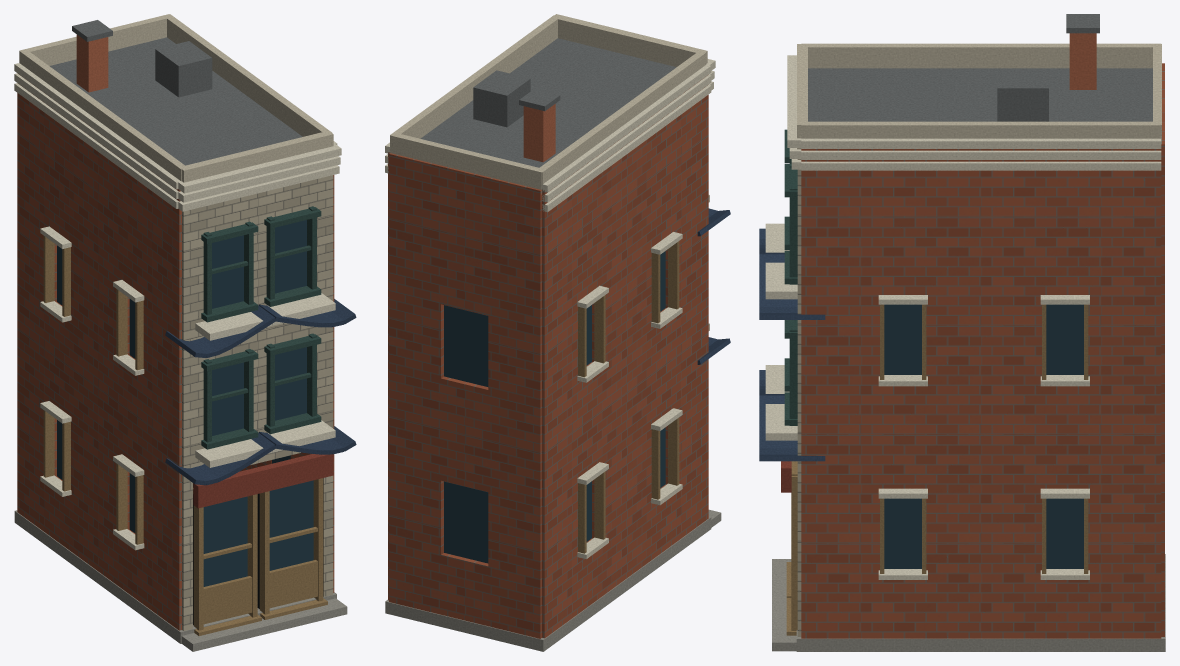
Rendered from CHINA17_lod2.glb.
3 renders of one model, left to right at view 1: azimuth 30°, elevation 25°; view 2: azimuth 150°, elevation 25°; view 3: azimuth 270°, elevation 25°, orthographic. The views are drawn at different scales.
Visible parts, largest first — view 1: CHINA17_LOD2; view 2: CHINA17_LOD2; view 3: CHINA17_LOD2.
Boxes of the visible parts, left/top/right/bottom form: CHINA17_LOD2: left=14, top=14, right=356, bottom=651; CHINA17_LOD2: left=385, top=14, right=730, bottom=651; CHINA17_LOD2: left=759, top=14, right=1165, bottom=651.
Bounding box in the file's own units: 3.71 × 10.45 × 6.78.
13 materials, 11 textured.
